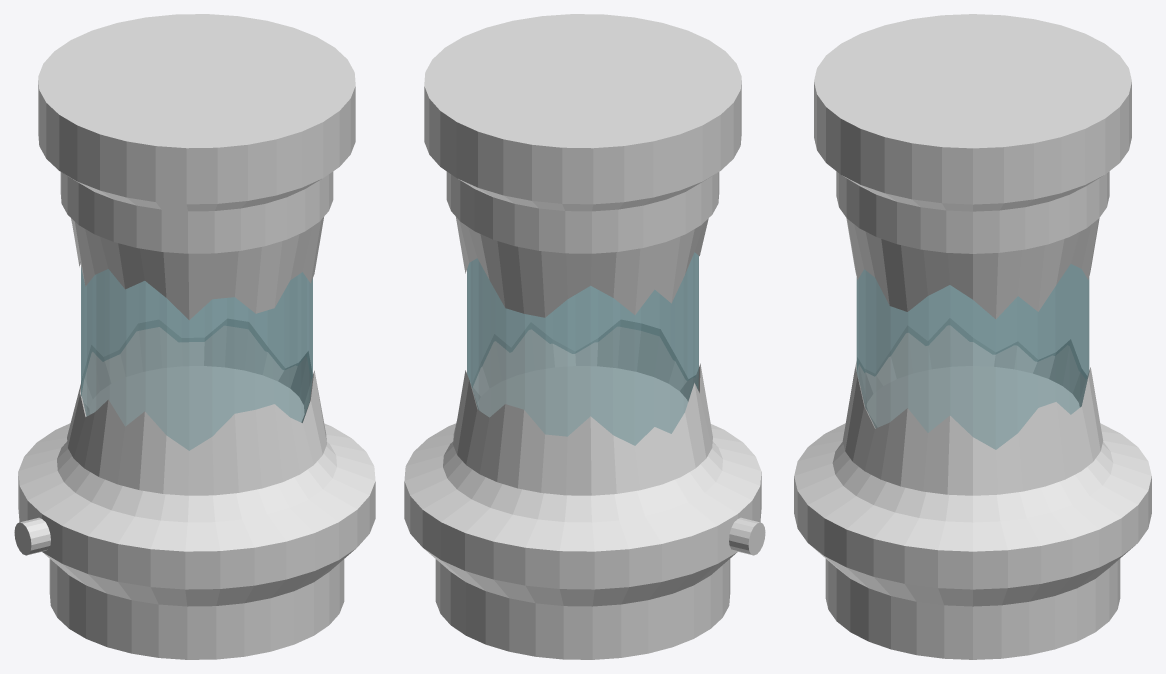
The model's file is cryo pod.fbx.
3 renders of one model, left to right at view 1: azimuth 30°, elevation 25°; view 2: azimuth 150°, elevation 25°; view 3: azimuth 270°, elevation 25°, orthographic.
Parts seen in each view (by area): view 1: Cylinder, Cylinder.002, Cylinder.001, Cylinder.003, Cylinder.004; view 2: Cylinder, Cylinder.002, Cylinder.001, Cylinder.003, Cylinder.004; view 3: Cylinder, Cylinder.002, Cylinder.001, Cylinder.003.
Part boxes in pixels (bbox=[...]): Cylinder: bbox=[18, 14, 375, 659]; Cylinder.002: bbox=[67, 319, 326, 495]; Cylinder.001: bbox=[81, 267, 312, 450]; Cylinder.003: bbox=[71, 217, 323, 320]; Cylinder.004: bbox=[14, 517, 50, 555]; Cylinder: bbox=[404, 14, 761, 659]; Cylinder.002: bbox=[453, 320, 712, 495]; Cylinder.001: bbox=[467, 252, 698, 445]; Cylinder.003: bbox=[456, 217, 708, 317]; Cylinder.004: bbox=[729, 517, 765, 555]; Cylinder: bbox=[794, 14, 1151, 659]; Cylinder.002: bbox=[842, 319, 1103, 495]; Cylinder.001: bbox=[856, 264, 1089, 449]; Cylinder.003: bbox=[846, 218, 1099, 318].
Bounding box in the file's own units: 1287 × 1932 × 1213.
